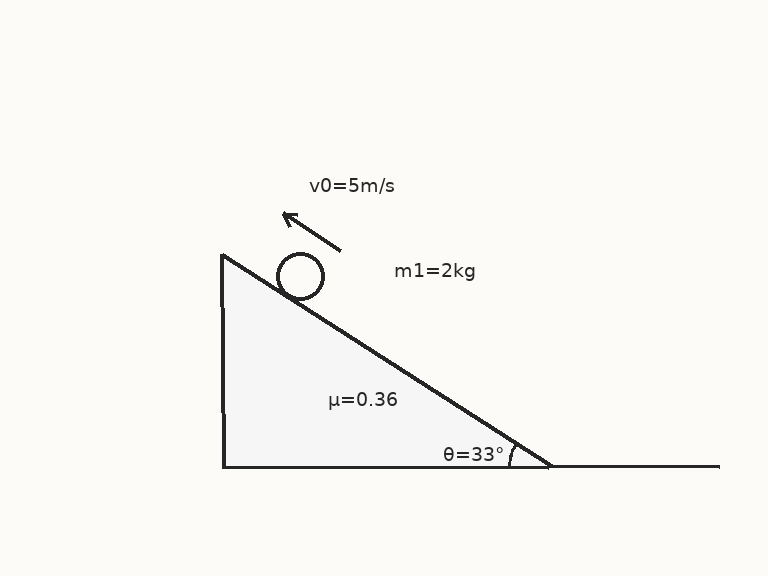ball: (274, 250, 326, 302)
ramp: (220, 252, 551, 468)
